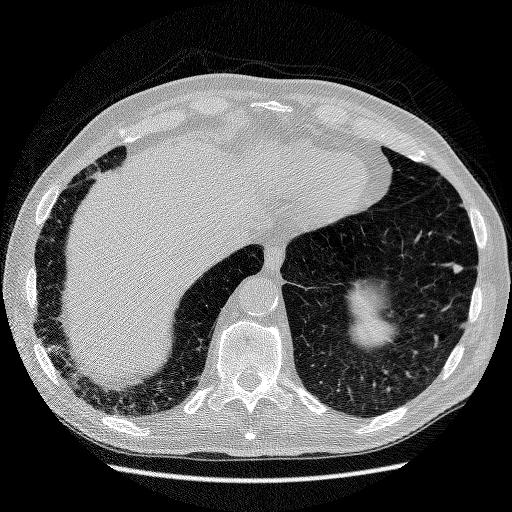nodule: (450, 262, 464, 276)
